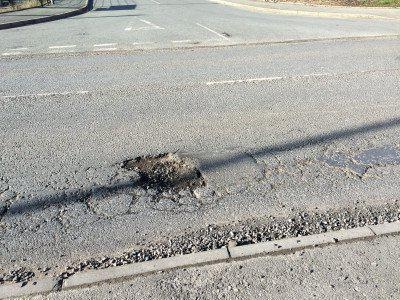pothole: (117, 149, 211, 200)
